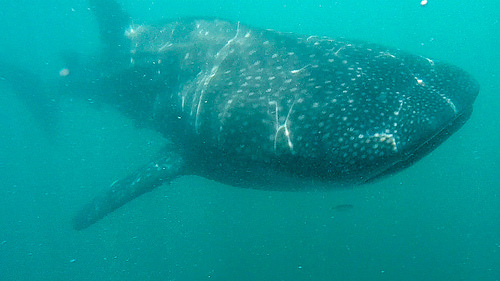shark: (7, 2, 488, 225)
